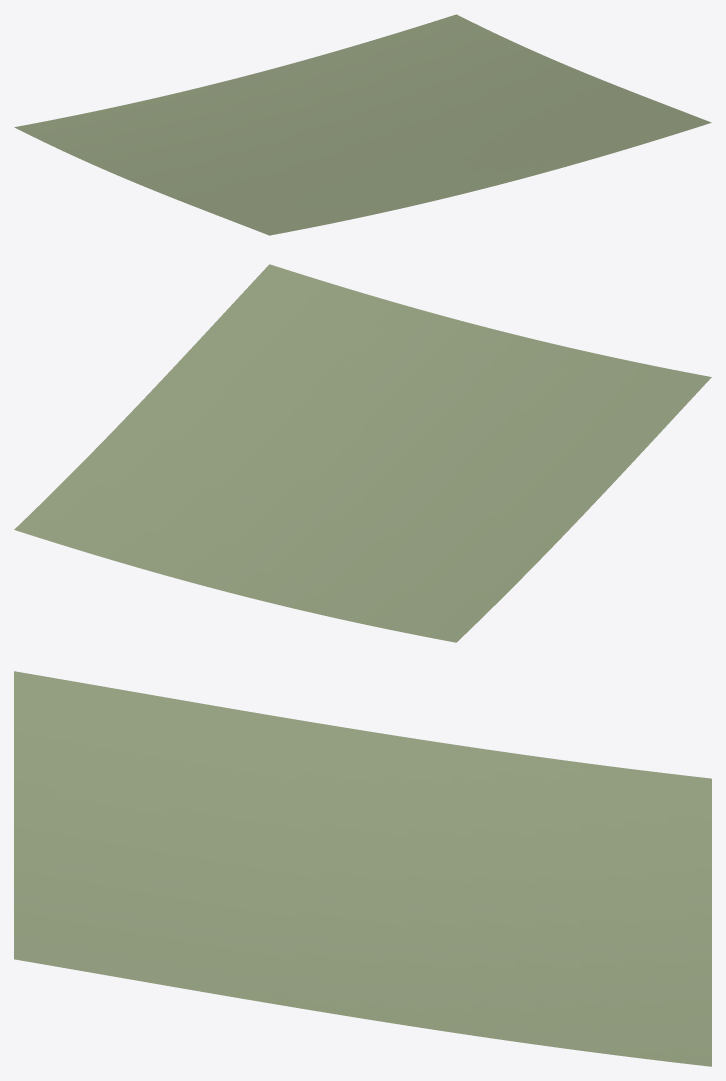
File: valley-4-13.glb
3 views of the same model, one above another, from view 1: azimuth 30°, elevation 25°; view 2: azimuth 150°, elevation 25°; view 3: azimuth 270°, elevation 25° (orthographic). The views are drawn at different scales.
Visible parts, largest first — view 1: valley-4-13; view 2: valley-4-13; view 3: valley-4-13.
Boxes of the visible parts, x1,y1,x2,y2 form: valley-4-13: (14, 14, 711, 235); valley-4-13: (14, 264, 711, 642); valley-4-13: (14, 671, 711, 1066).
Bounding box in the file's own units: 256 × 49.31 × 256.
